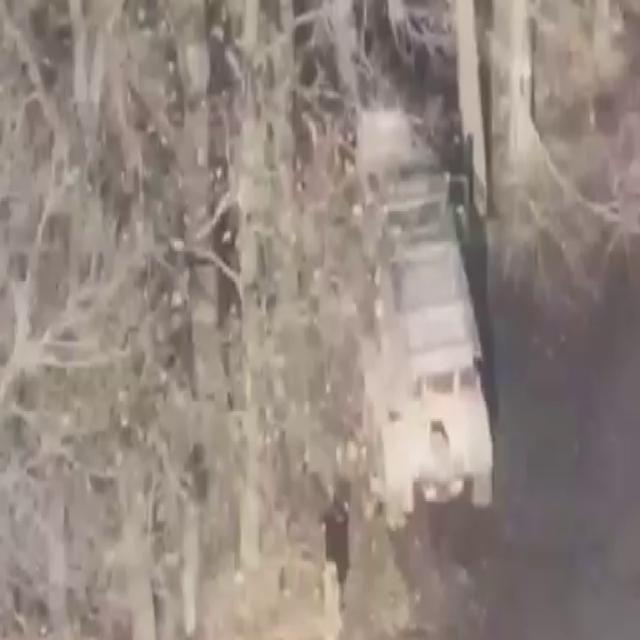MLRS: (329, 98, 496, 514)
